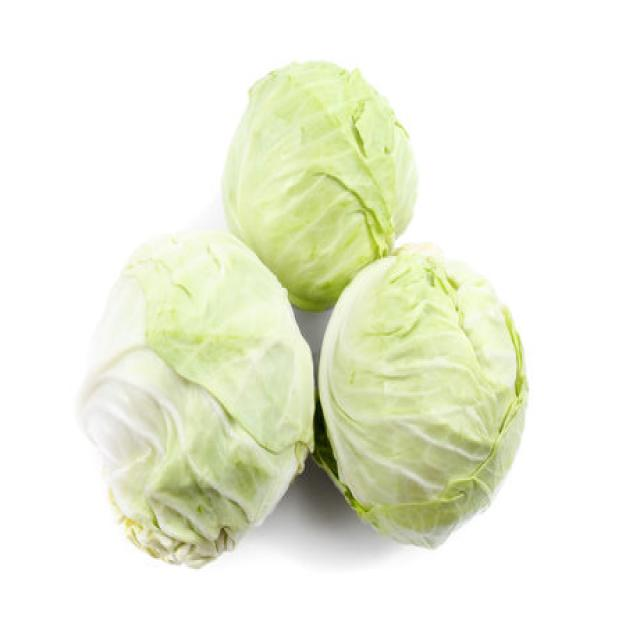Cabbage: (75, 227, 316, 569), (313, 240, 529, 549), (220, 57, 417, 311)
